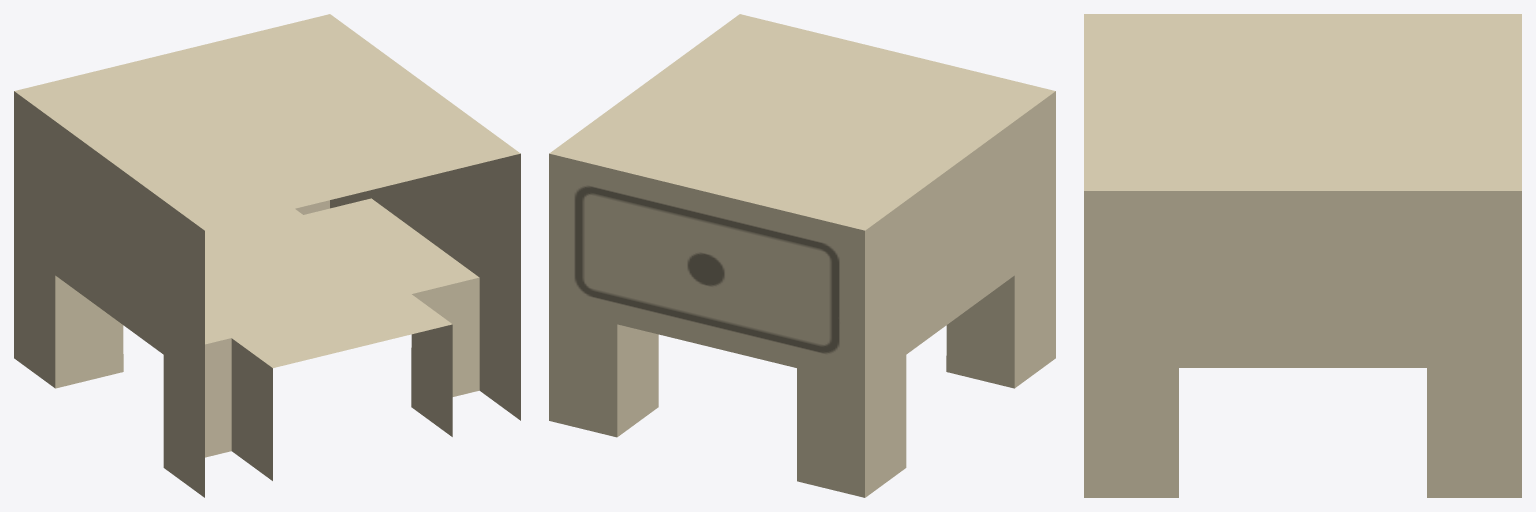
Rendered from NightTable.glb.
3 views of the same model, side by side, from view 1: azimuth 30°, elevation 25°; view 2: azimuth 150°, elevation 25°; view 3: azimuth 270°, elevation 25° (orthographic). The views are drawn at different scales.
Visible parts, largest first — view 1: NightTable; view 2: NightTable; view 3: NightTable.
Boxes of the visible parts, <box> form: NightTable: <box>14,14,520,497</box>; NightTable: <box>549,14,1055,497</box>; NightTable: <box>1084,14,1521,497</box>.
Bounding box in the file's own units: 1.91 × 1.55 × 2.
Materials: 1 (1 with a texture image).
